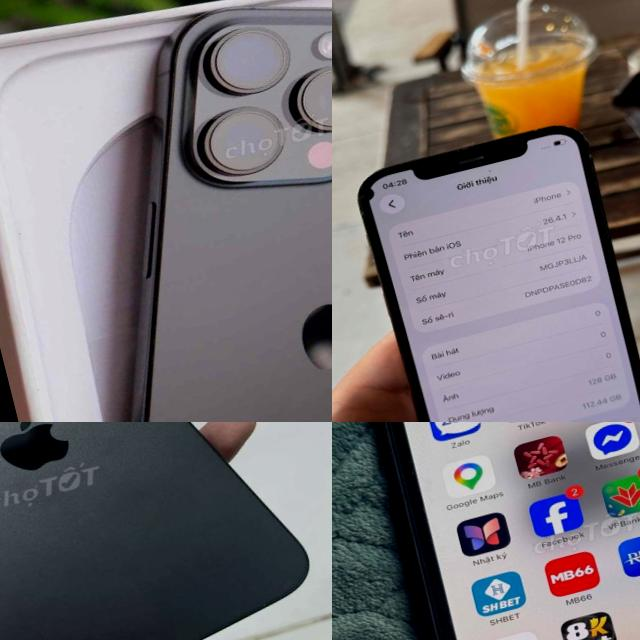gen_12_13: (349, 111, 640, 422)
gen_16: (0, 0, 332, 422), (0, 422, 308, 640)
gen_x_xs: (343, 422, 640, 640)
screen_defect: (350, 166, 410, 224)
